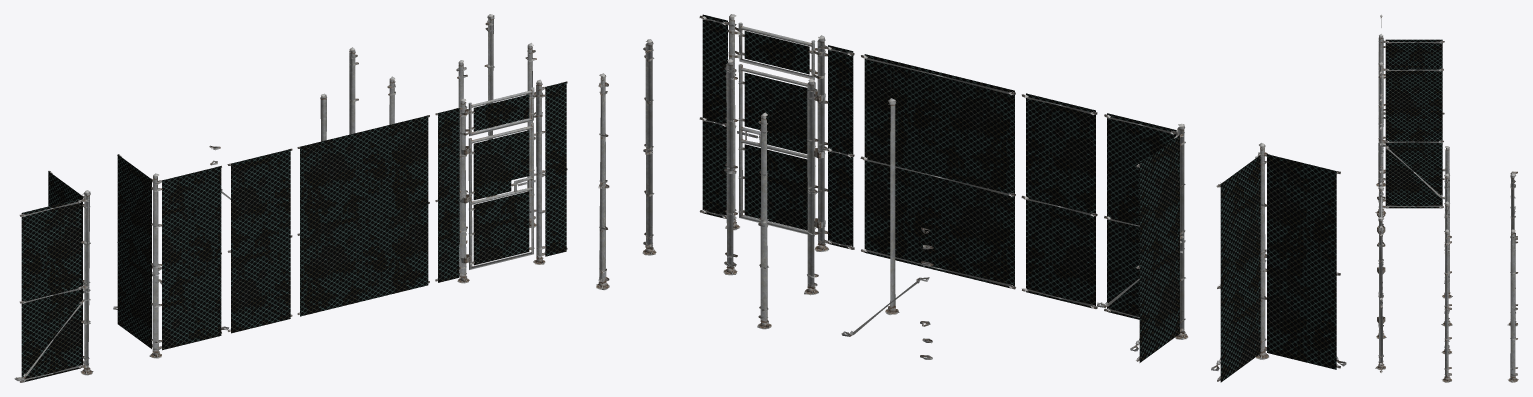
The model's file is Decor_Fence.obj.
3 views of the same model, side by side, from view 1: azimuth 30°, elevation 25°; view 2: azimuth 150°, elevation 25°; view 3: azimuth 270°, elevation 25° (orthographic). The views are drawn at different scales.
Parts seen in each view (by area): view 1: Decor_Fence; view 2: Decor_Fence; view 3: Decor_Fence.
Boxes of the visible parts, x1=… form: Decor_Fence: x1=14, y1=14, x2=567, y2=382; Decor_Fence: x1=596, y1=14, x2=1346, y2=382; Decor_Fence: x1=1375, y1=14, x2=1518, y2=382.
Size of the model in its own units: 6.44 by 2 by 1.72.
